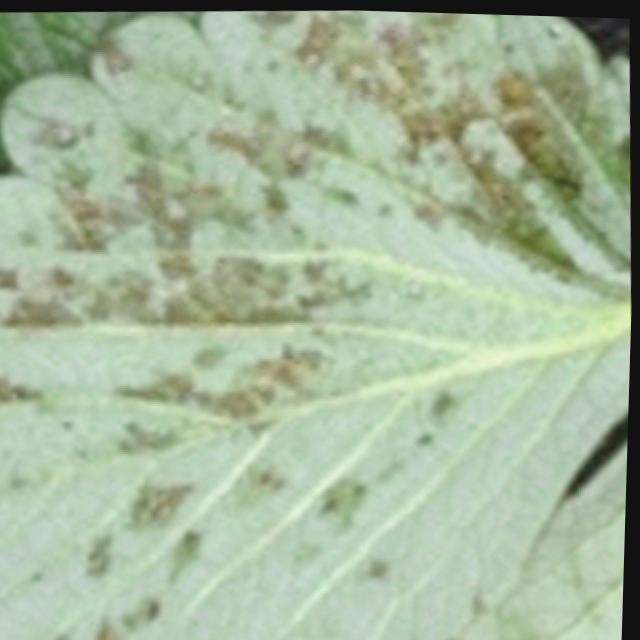Angular Leafspot: (0, 7, 633, 640)
